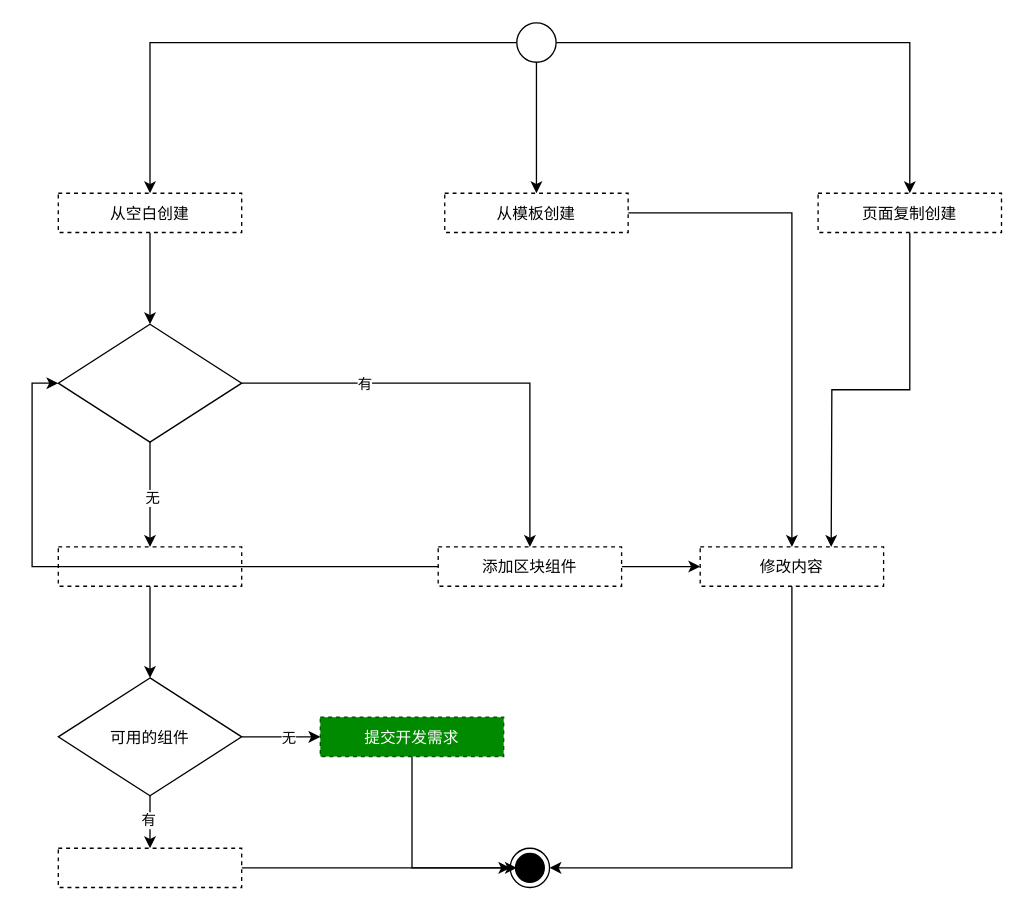
This 1024x910 diagram has some shape labels left out. The centre of each missing label's shape, as x and y in pixels:
"创建布局" belongs at [149,566].
"可用的区块组件" belongs at [149,382].
"添加组件" belongs at [149,867].
